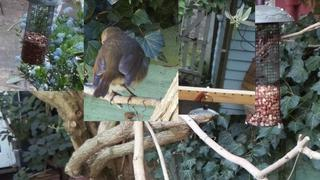robin: (92, 27, 152, 106)
